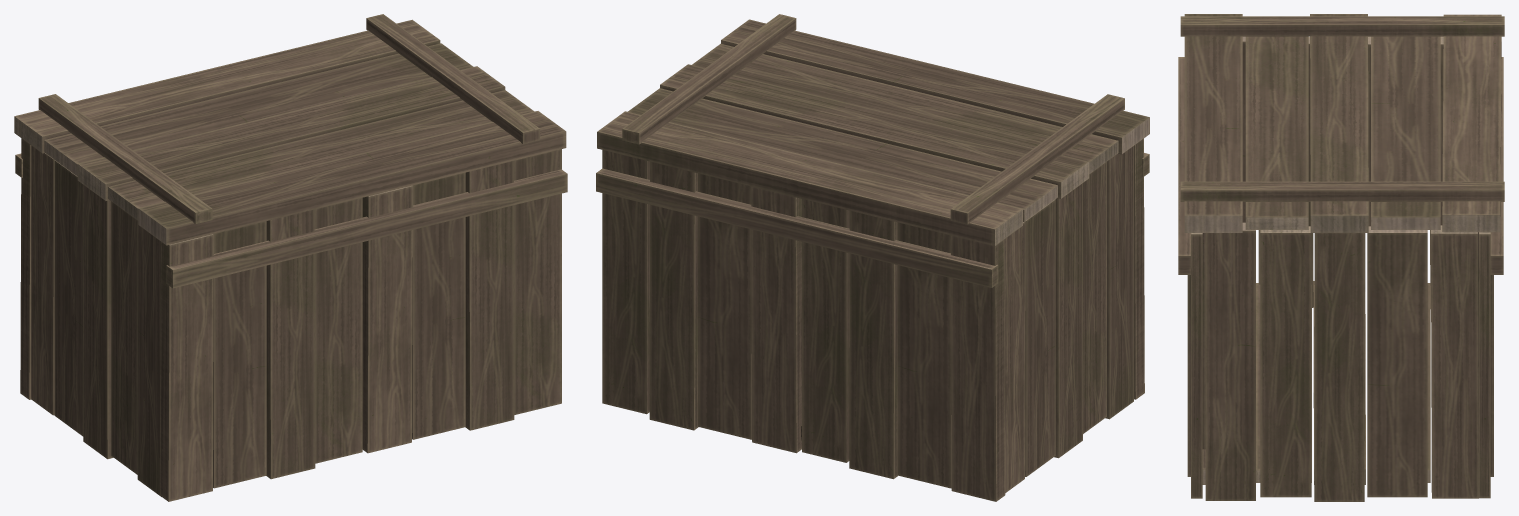
Rendered from SM_crate_02.fbx.
The picture shows the model from 3 angles, left to right: view 1: azimuth 30°, elevation 25°; view 2: azimuth 150°, elevation 25°; view 3: azimuth 270°, elevation 25°; orthographic projection. The views are drawn at different scales.
Parts seen in each view (by area): view 1: Object32464; view 2: Object32464; view 3: Object32464.
Boxes of the visible parts, box(x1,y1,x2,y2) form: Object32464: box(14, 14, 567, 501); Object32464: box(596, 14, 1149, 501); Object32464: box(1178, 14, 1504, 501).
Size of the model in its own units: 47.47 by 32.71 by 32.47.
